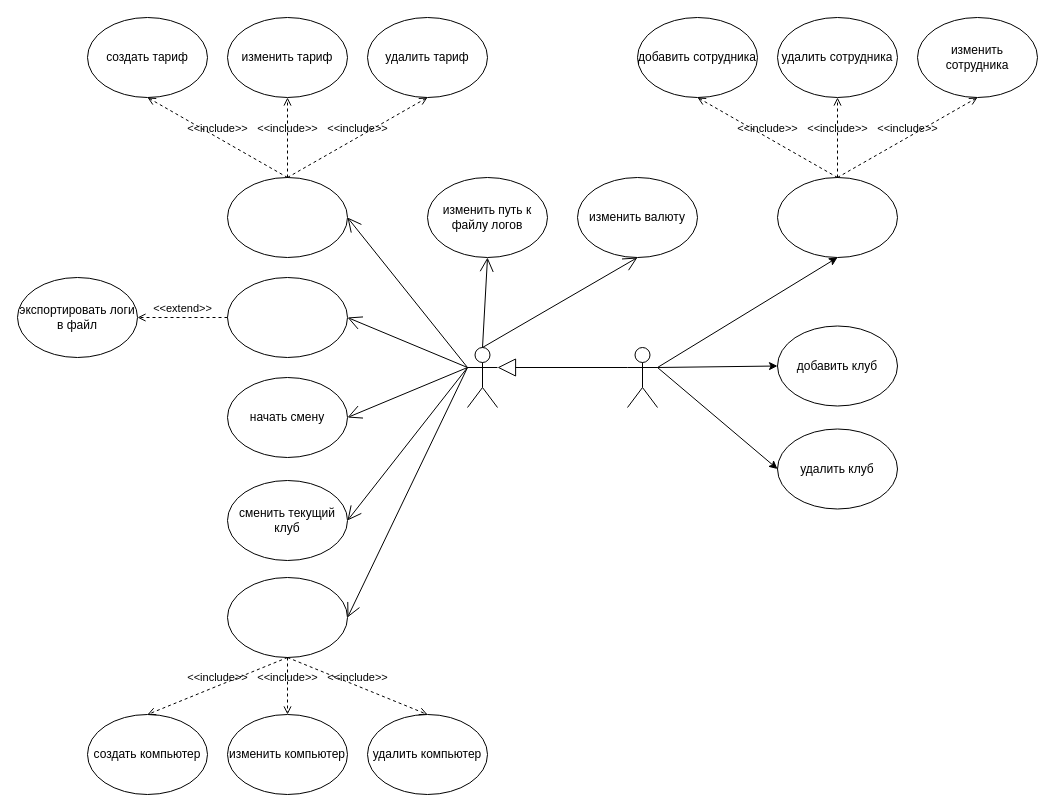
Some shapes in this 1055 by 812 pixel diagram are drawn without their labels. Here are the shapes that lost their labels. From the top down, the box of each, then its label:
(226, 176, 348, 258): управлять тарифом
(776, 176, 898, 258): управлять сотрудниками
(226, 276, 348, 358): просмотреть журнал логов
(466, 346, 498, 408): Администратор
(626, 346, 658, 408): Владелец
(226, 576, 348, 658): управлять компьютером
